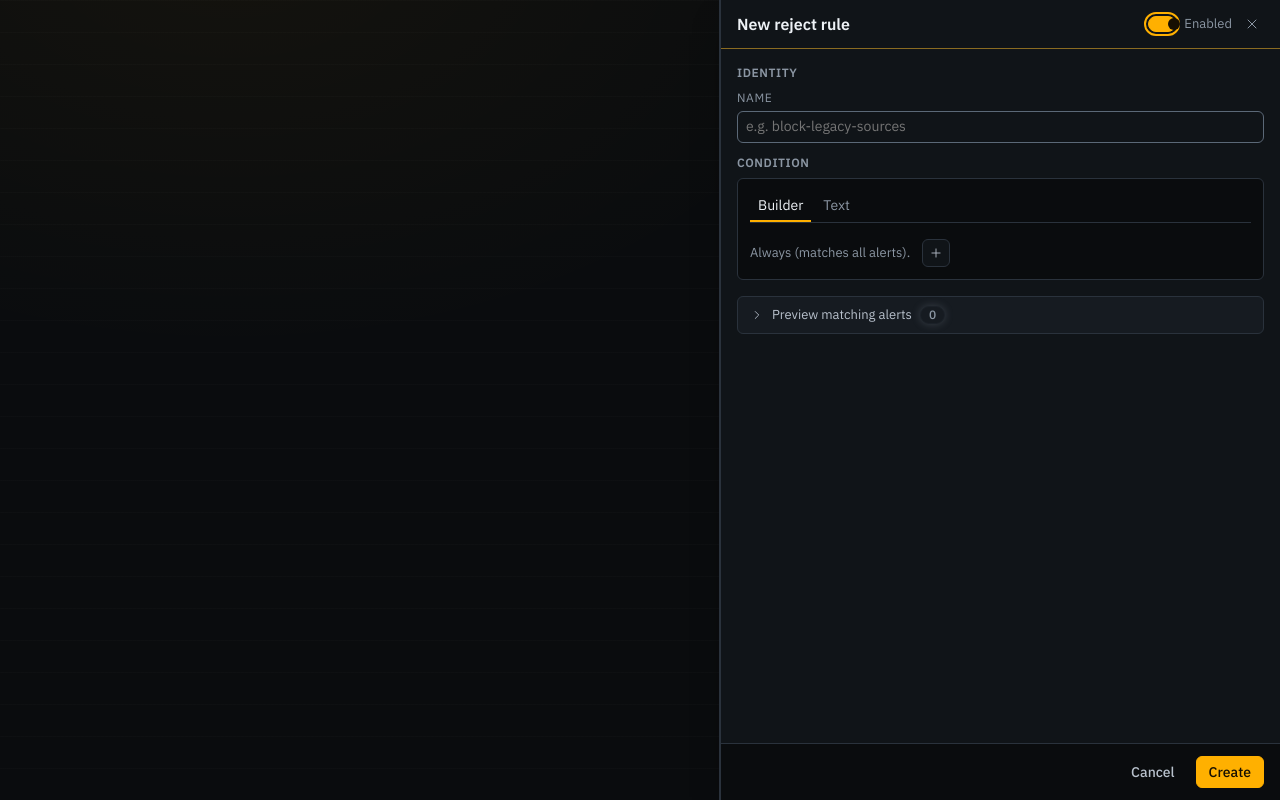
it: RejectEditor › surfaces the 'name already taken' conflict on a 409
The image size is (1280, 800).
Type "dup" into the field labelled "Name" at (1000, 127), box [738,116,1263,137]
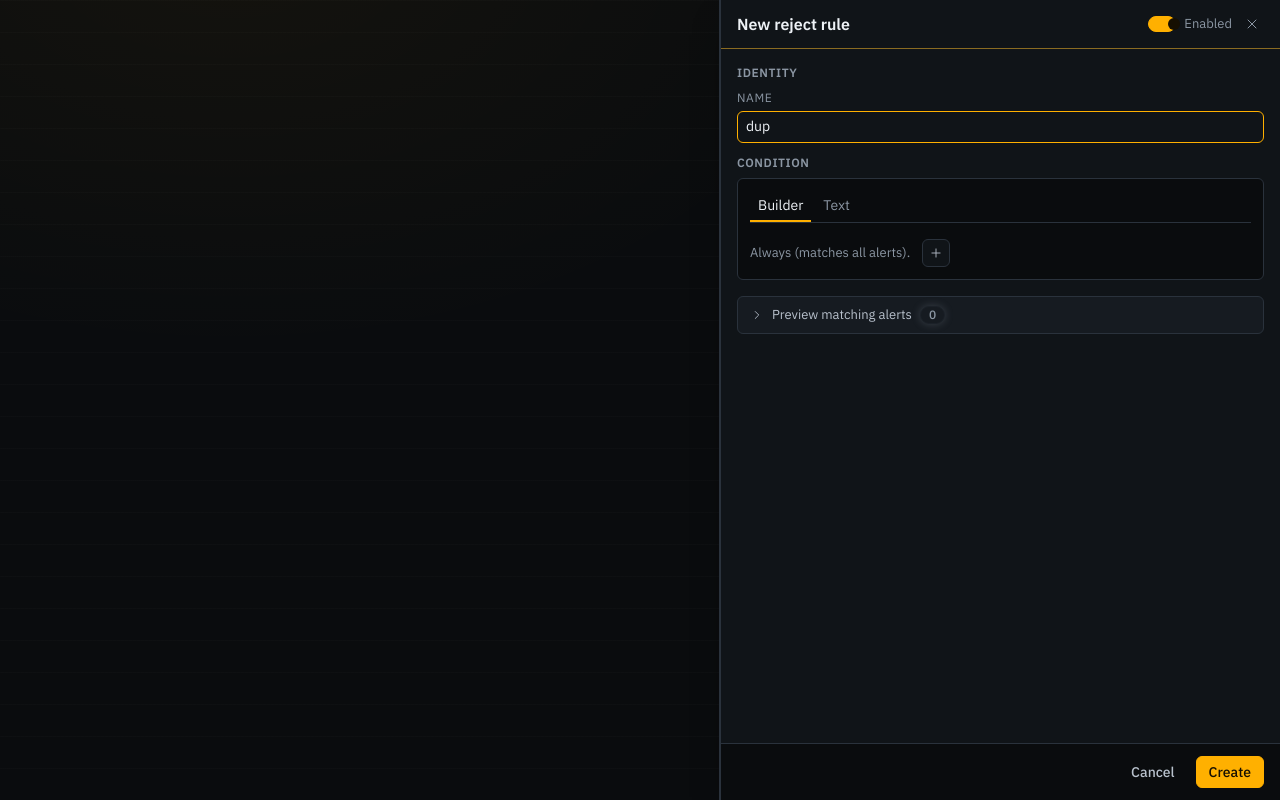
Click the button "Create" at (1230, 772), box [1196,756,1264,788]
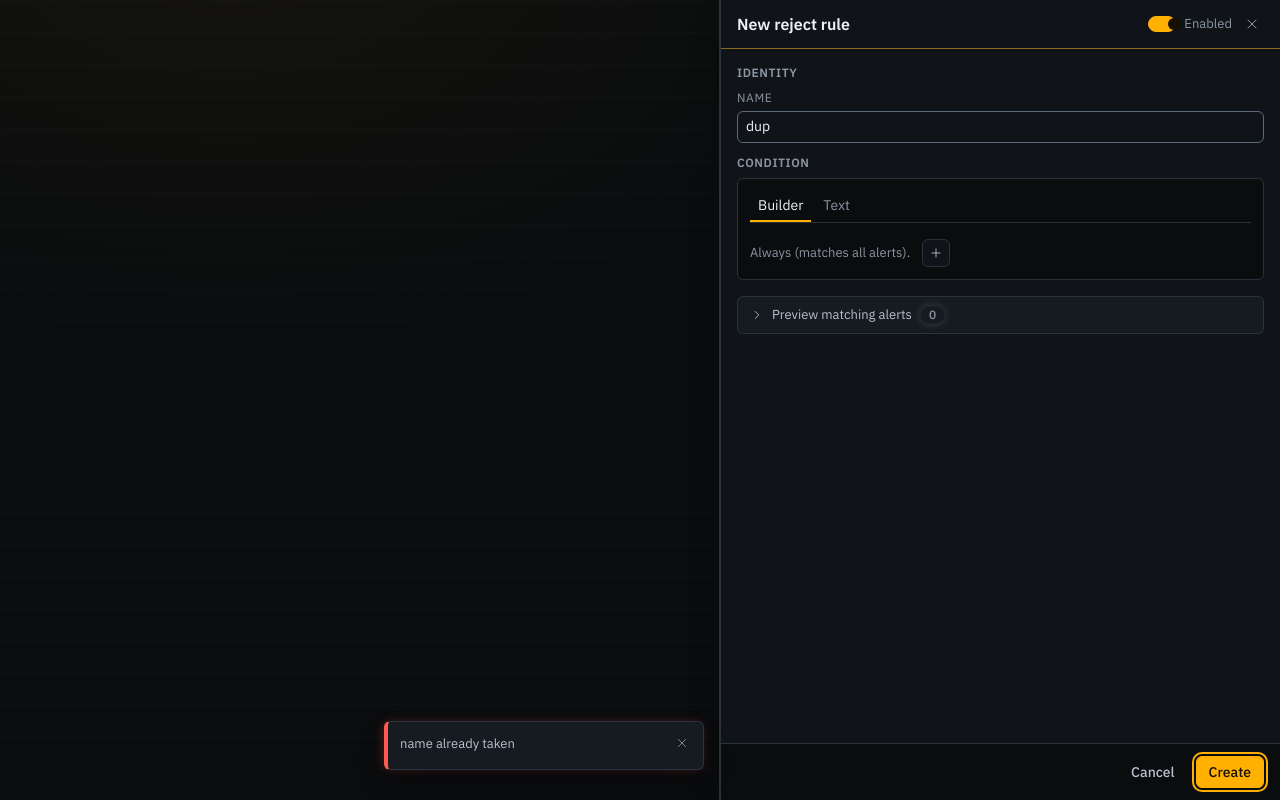
Expected: the text "name already taken" is shown, [400,734,515,752]
